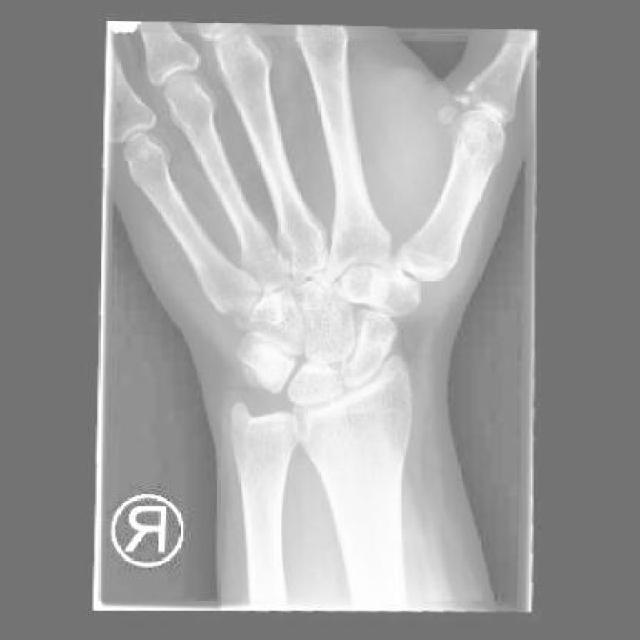Fracture: (457, 86, 477, 108)
